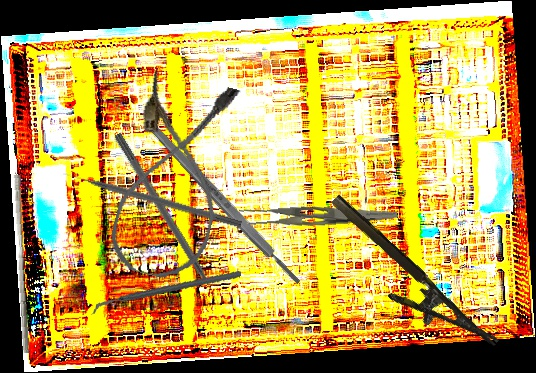Cannula: (104, 68, 245, 287)
Chopper: (91, 243, 242, 342)
Dressing Forceps: (239, 193, 398, 233)
Needle Holder: (310, 192, 500, 373)
Pusher: (111, 131, 225, 310), (62, 167, 243, 229), (7, 174, 37, 354)
Scalpel Handle: (141, 115, 304, 288)
